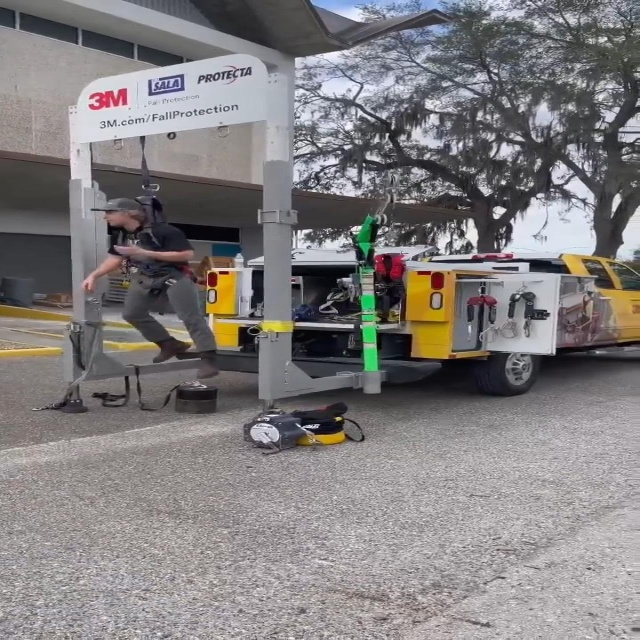Arnes_seguridad: (108, 196, 205, 297)
